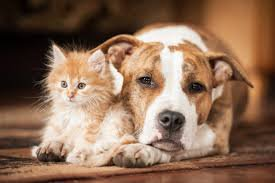cat: (33, 38, 133, 162)
dog: (117, 21, 253, 167)
